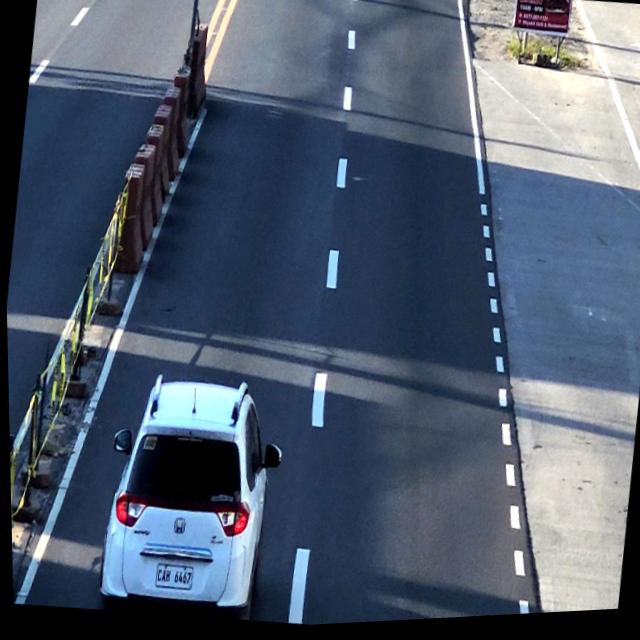Car: (97, 368, 284, 629)
License-Plate: (149, 558, 193, 595)
